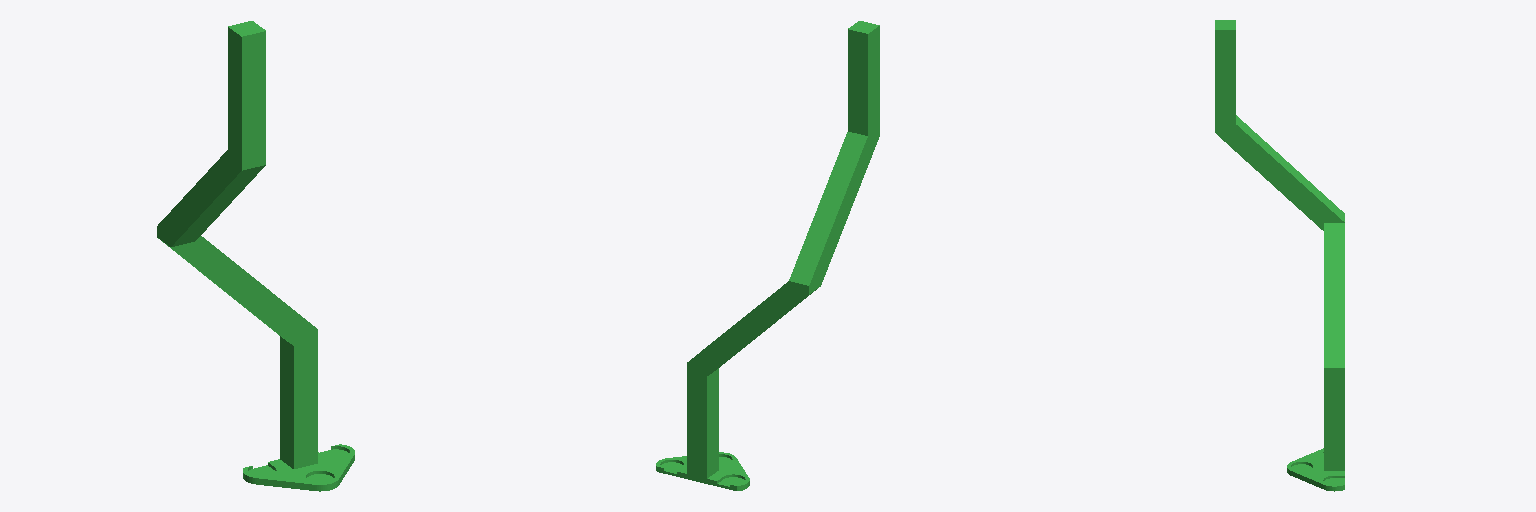
robot.urdf — puzzle_C:
<?xml version="1.0"?>
<!-- puzzle_C: standalone static model from C.step.
     Mesh in millimetres (scale 0.001). Link origin = STEP-file origin, unchanged.
     Mass/inertia assume density 1.24 g/cm^3 -> 32.0 g (material not given in the STEP). -->
<robot name="puzzle_C">
  <material name="puzzle_C_color"><color rgba="0.30 0.75 0.35 1.0"/></material>
  <link name="puzzle_C_link">
    <visual>
      <geometry><mesh filename="meshes/puzzle_C.stl" scale="0.001 0.001 0.001"/></geometry>
      <material name="puzzle_C_color"/>
    </visual>
    <collision>
      <geometry><mesh filename="meshes/puzzle_C.stl" scale="0.001 0.001 0.001"/></geometry>
    </collision>
    <inertial>
      <origin xyz="-0.030210 -0.016878 0.093376" rpy="0 0 0"/>
      <mass value="0.03203"/>
      <inertia ixx="1.2118e-04" ixy="-1.0128e-05" ixz="3.6953e-05" iyy="1.2306e-04" iyz="3.2969e-05" izz="3.0127e-05"/>
    </inertial>
  </link>
</robot>

--- What the picture shows (computed from the rendered views, not written in the file) ---
The picture shows the robot from 3 angles, left to right: view 1: azimuth 30°, elevation 25°; view 2: azimuth 150°, elevation 25°; view 3: azimuth 270°, elevation 25°; orthographic projection.
Robot: puzzle_C — 1 links, 0 joints (none); root link puzzle_C_link; default pose: all joints at 0.
Visible links, largest first — view 1: puzzle_C_link; view 2: puzzle_C_link; view 3: puzzle_C_link.
Boxes of the visible links, x1,y1,x2,y2 form: puzzle_C_link: (157, 21, 354, 491); puzzle_C_link: (656, 21, 879, 490); puzzle_C_link: (1215, 20, 1344, 491).
Size in the robot's own frame: 0.0769 by 0.06 by 0.2025 metres.
1 mesh visuals loaded from 1 distinct referenced files (1 binary STL).
